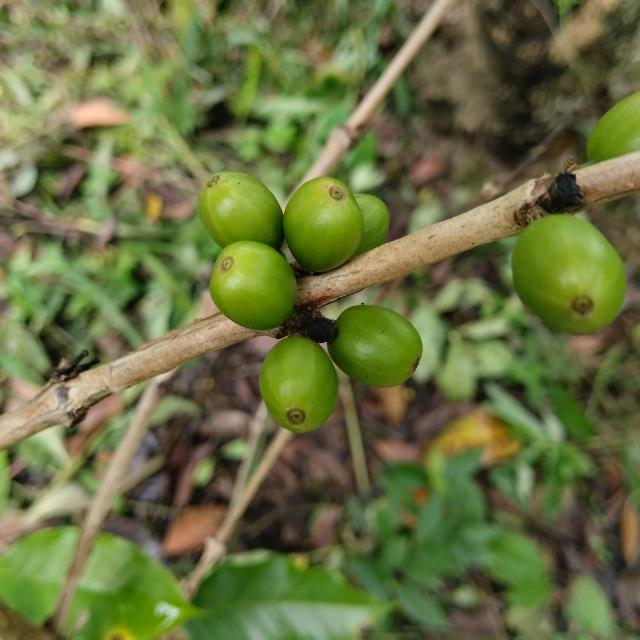green: (513, 214, 627, 334), (209, 240, 296, 330), (328, 305, 423, 387), (283, 176, 364, 272), (259, 337, 338, 433), (197, 171, 284, 249), (588, 91, 640, 162), (352, 194, 390, 257)
